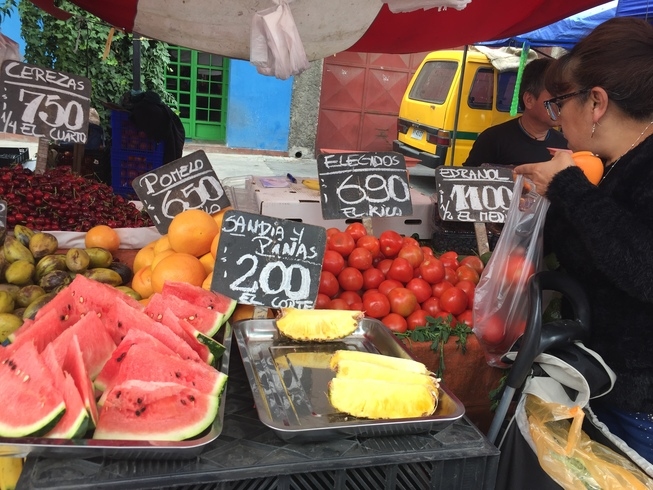precio: (210, 207, 328, 317), (129, 148, 235, 243), (1, 58, 97, 150), (313, 148, 416, 226), (432, 160, 523, 231)
